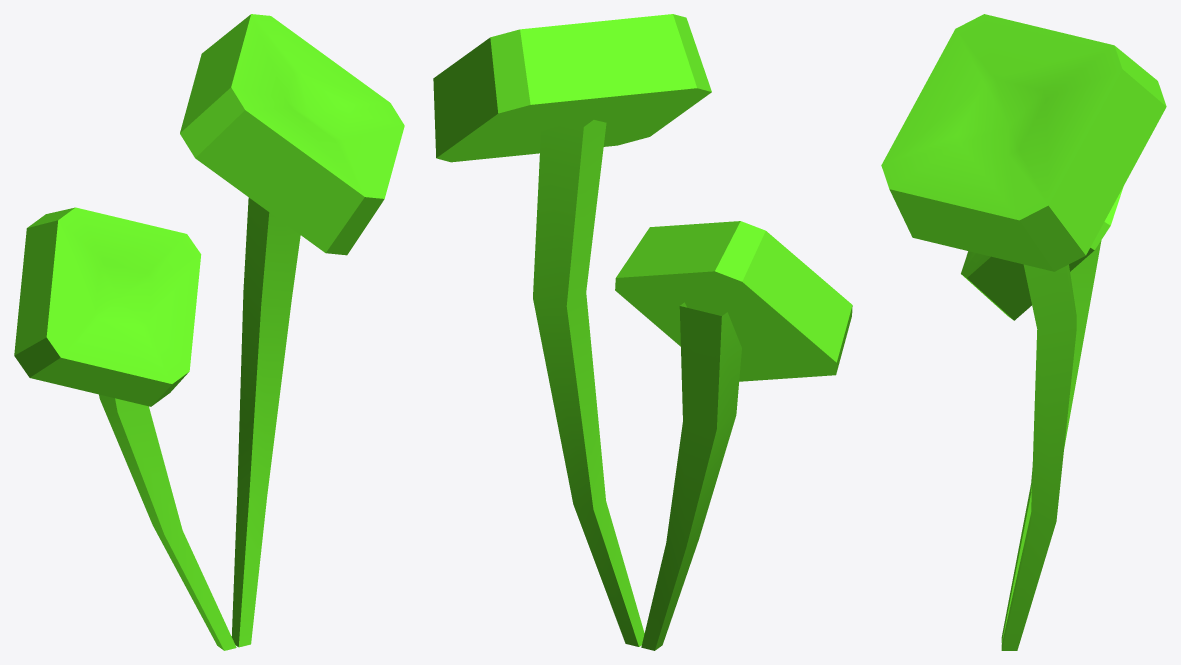
Rendered from SM_Flower_10.FBX.
3 views of the same model, side by side, from view 1: azimuth 30°, elevation 25°; view 2: azimuth 150°, elevation 25°; view 3: azimuth 270°, elevation 25° (orthographic). The views are drawn at different scales.
Visible parts, largest first — view 1: 10; view 2: 10; view 3: 10.
Part boxes in pixels (x1,y1,x2,y2): 10: (14,14,404,650); 10: (433,14,852,650); 10: (881,14,1166,650).
Bounding box in the file's own units: 1.31 × 1.95 × 0.7954.
